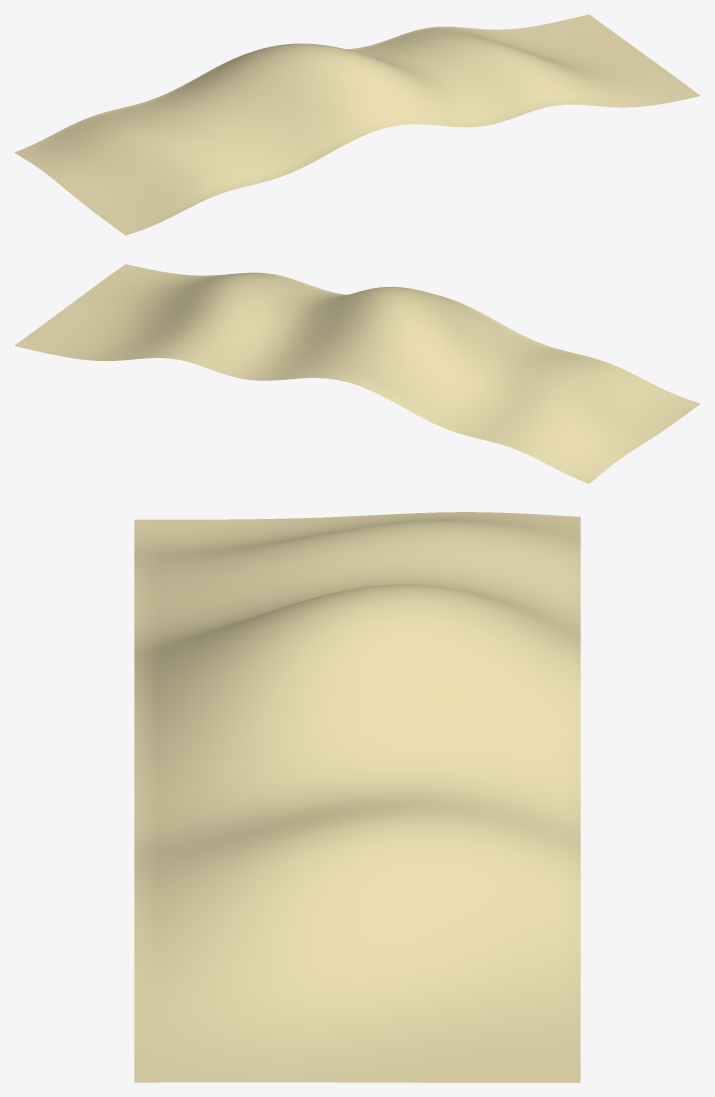
File: dunes_sandhill.glb
3 views of the same model, one above another, from view 1: azimuth 30°, elevation 25°; view 2: azimuth 150°, elevation 25°; view 3: azimuth 270°, elevation 25° (orthographic). The views are drawn at different scales.
Parts seen in each view (by area): view 1: dunes_sandhill; view 2: dunes_sandhill; view 3: dunes_sandhill.
Part boxes in pixels (box(x1,y1,x2,y2)): dunes_sandhill: box(14, 14, 700, 235); dunes_sandhill: box(14, 264, 700, 483); dunes_sandhill: box(134, 512, 580, 1082).
Size of the model in its own units: 2.5 by 0.3395 by 0.84.
